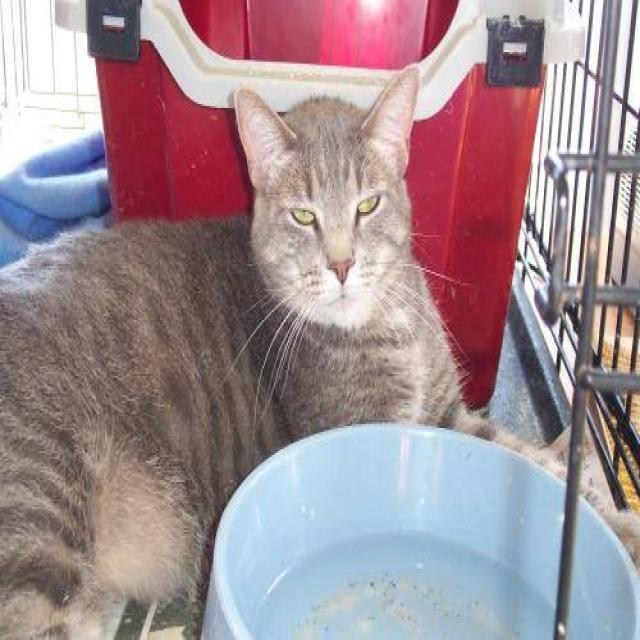cat: (0, 59, 637, 638)
